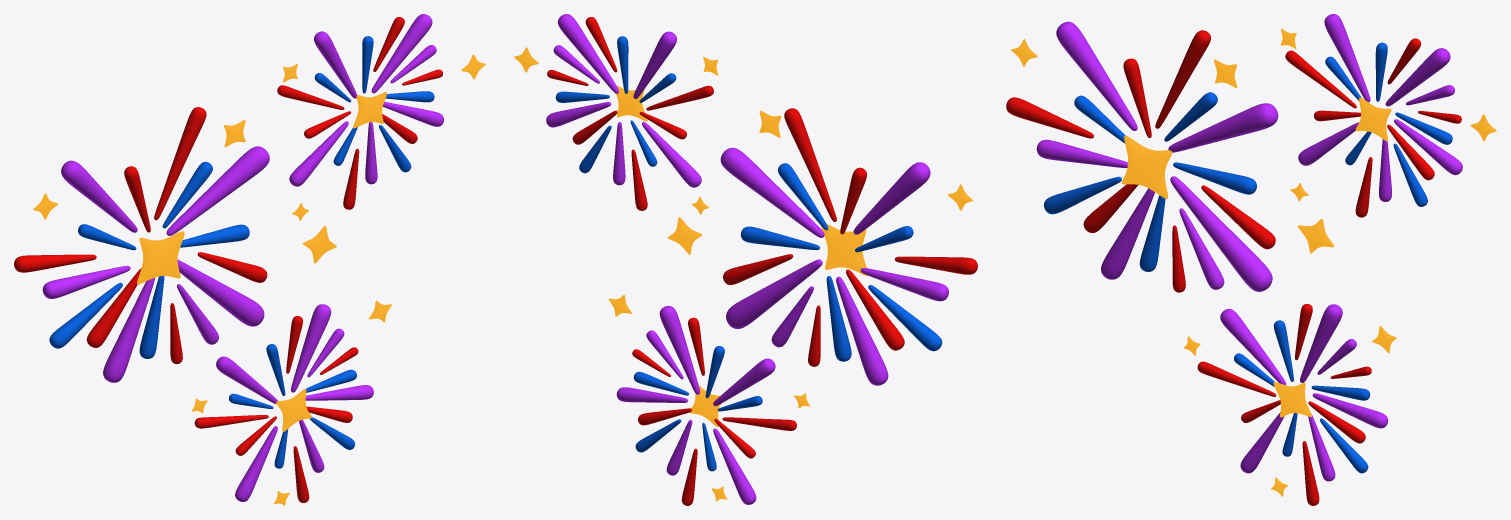
File: pop.glb
The picture shows the model from 3 angles, left to right: view 1: azimuth 30°, elevation 25°; view 2: azimuth 150°, elevation 25°; view 3: azimuth 330°, elevation 25°; orthographic projection. The views are drawn at different scales.
Visible parts, largest first — view 1: Cube.081, Cube.080, Cube.068, Cube.035, Cube.247, Cube.083, Cube.067, Cube.071, Cube.046, Cube.070, Cube.069, Cube.582 (+22 smaller); view 2: Cube.081, Cube.080, Cube.068, Cube.247, Cube.035, Cube.083, Cube.067, Cube.069, Cube.071, Cube.046, Cube.070, Cube.582 (+24 smaller); view 3: Cube.080, Cube.247, Cube.081, Cube.035, Cube.068, Cube.083, Cube.071, Cube.075, Cube.045, Cube.066, Cube.079, Cube.046 (+29 smaller).
Boxes of the visible parts, box(x1,y1,x2,y2) form: Cube.081: box(166, 146, 269, 235); Cube.080: box(177, 259, 264, 326); Cube.068: box(103, 277, 154, 382); Cube.035: box(137, 231, 184, 284); Cube.247: box(61, 160, 137, 232); Cube.083: box(154, 107, 206, 220); Cube.067: box(371, 14, 432, 93); Cube.071: box(42, 265, 130, 298); Cube.046: box(291, 304, 331, 392); Cube.070: box(49, 282, 122, 348); Cube.069: box(86, 268, 141, 347); Cube.582: box(139, 276, 164, 358); Cube.081: box(720, 147, 824, 237); Cube.080: box(726, 259, 822, 328); Cube.068: box(836, 276, 888, 385); Cube.247: box(853, 162, 930, 234); Cube.035: box(821, 224, 868, 275); Cube.083: box(784, 108, 836, 221); Cube.067: box(557, 14, 618, 93); Cube.069: box(846, 269, 904, 350); Cube.071: box(860, 268, 948, 301); Cube.046: box(659, 306, 700, 394); Cube.070: box(868, 285, 942, 351); Cube.582: box(826, 276, 851, 361); Cube.080: box(1170, 176, 1272, 291); Cube.247: box(1056, 21, 1137, 130); Cube.081: box(1168, 103, 1278, 152); Cube.035: box(1121, 135, 1172, 198); Cube.068: box(1101, 188, 1154, 279); Cube.083: box(1155, 30, 1210, 128); Cube.071: box(1036, 139, 1128, 168); Cube.075: box(1006, 97, 1093, 138); Cube.045: box(1220, 308, 1286, 385); Cube.066: box(1324, 14, 1370, 102); Cube.079: box(1201, 185, 1275, 249); Cube.046: box(1300, 304, 1342, 382).
Size of the model in its own units: 6.19 by 5.92 by 0.4249.
